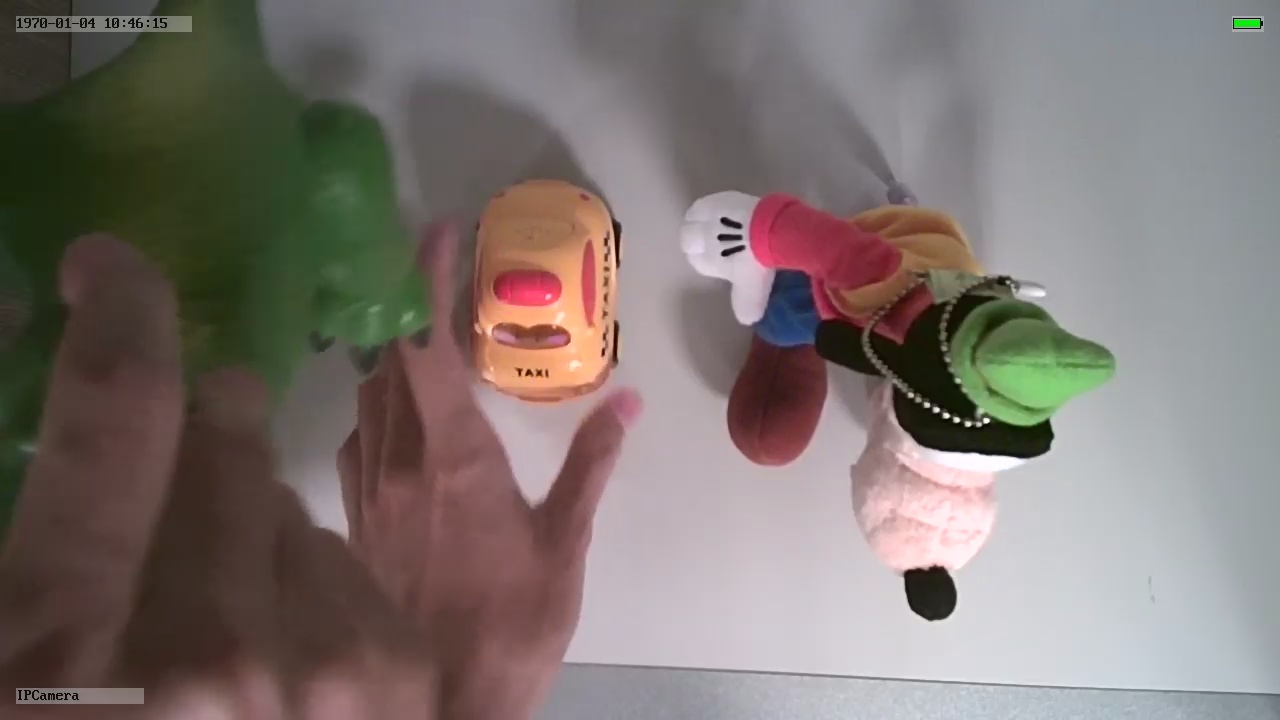goofy: (667, 181, 1119, 629)
